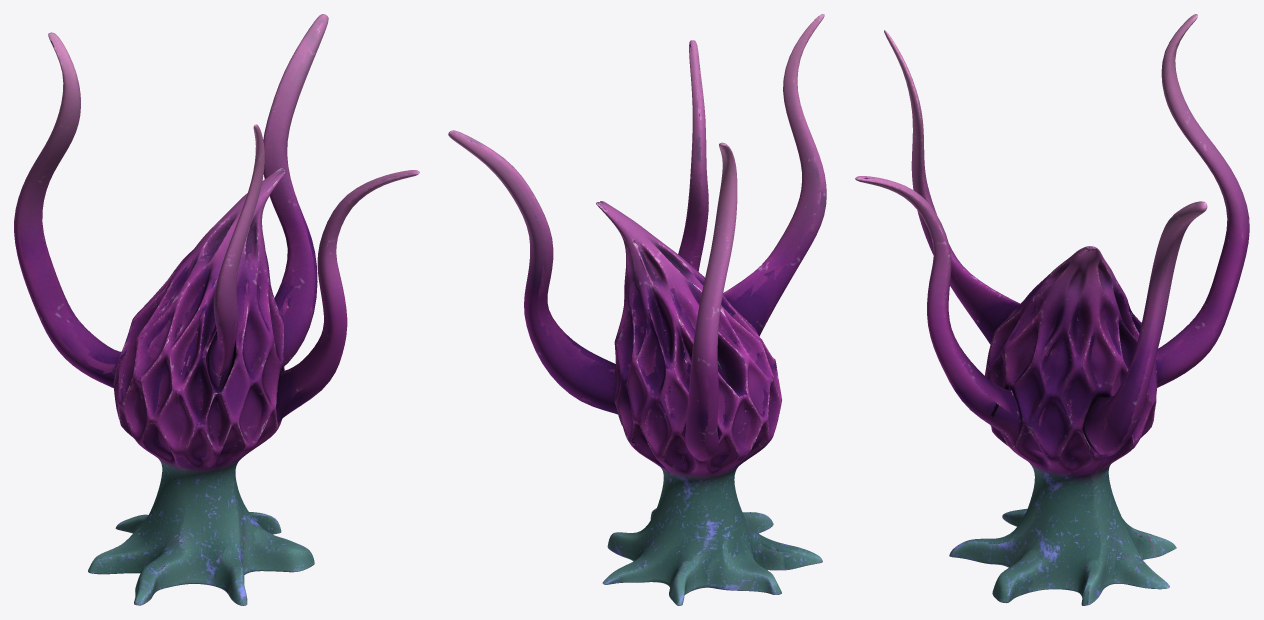
The model's file is MZ4250 - Violet Fungus.glb.
3 renders of one model, left to right at view 1: azimuth 30°, elevation 25°; view 2: azimuth 150°, elevation 25°; view 3: azimuth 270°, elevation 25°, orthographic. The views are drawn at different scales.
Visible parts, largest first — view 1: default; view 2: default; view 3: default.
Boxes of the visible parts, x1,y1,x2,y2 form: default: (14,14,419,605); default: (448,14,826,605); default: (855,14,1249,605).
Size of the model in its own units: 0.7401 by 1.22 by 0.8475.
1 material, 1 textured.
